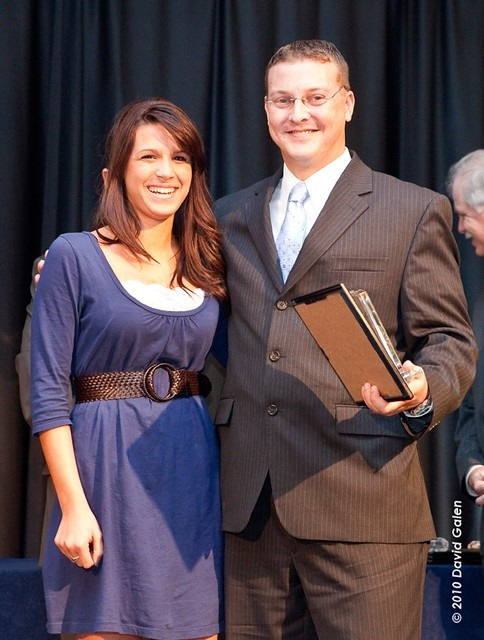face_no_mask: (105, 102, 203, 220), (262, 42, 354, 160)
